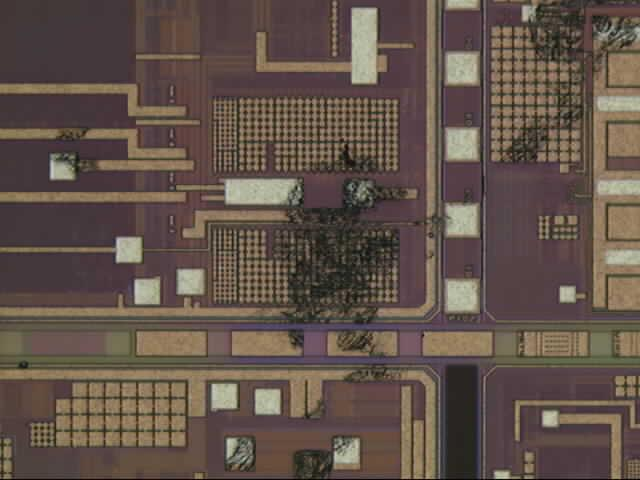SCRATCH: (217, 1, 640, 480)
